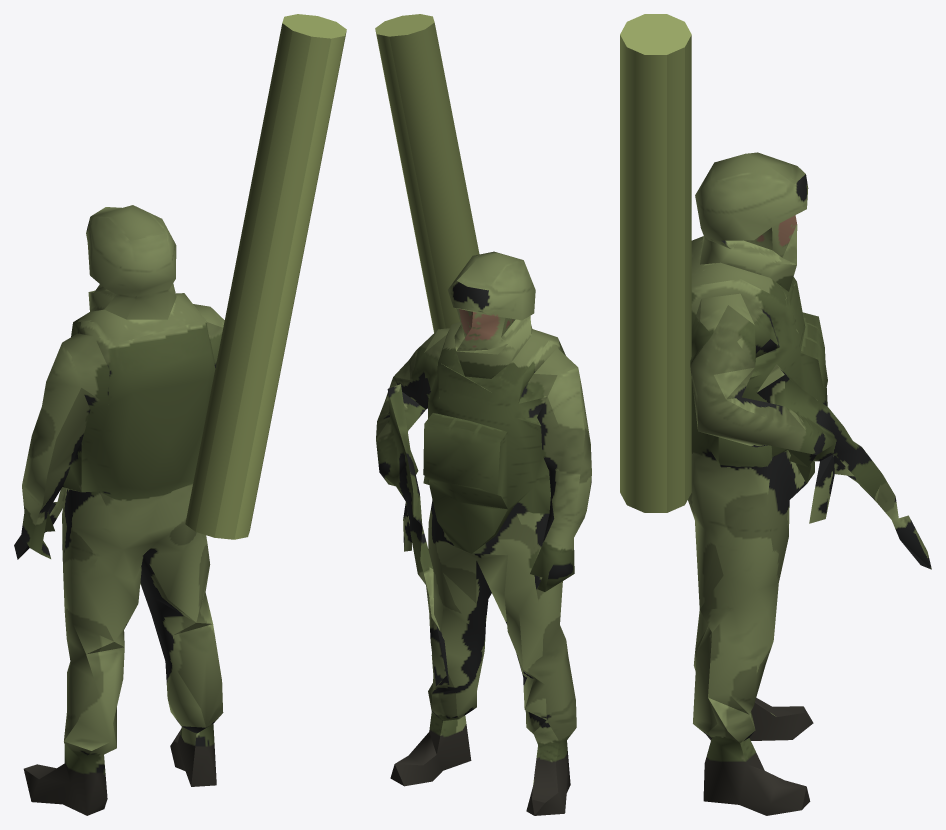
The model's file is assault_soldier.glb.
3 views of the same model, side by side, from view 1: azimuth 30°, elevation 25°; view 2: azimuth 150°, elevation 25°; view 3: azimuth 270°, elevation 25° (orthographic). The views are drawn at different scales.
Parts seen in each view (by area): view 1: assault_soldier; view 2: assault_soldier; view 3: assault_soldier.
Boxes of the visible parts, x1=… form: assault_soldier: x1=14, y1=14, x2=346, y2=815; assault_soldier: x1=375, y1=14, x2=591, y2=815; assault_soldier: x1=620, y1=14, x2=931, y2=815.
Bounding box in the file's own units: 0.1099 × 0.2982 × 0.1033.
1 material, 1 textured.
